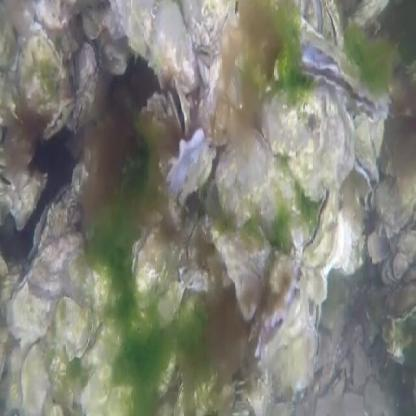3: (6, 229, 87, 344), (295, 54, 390, 113), (29, 183, 82, 259), (133, 226, 175, 307), (302, 184, 339, 265), (109, 0, 160, 56), (180, 0, 233, 52), (255, 308, 289, 364), (355, 115, 378, 190), (296, 35, 341, 72), (186, 215, 216, 267), (167, 79, 192, 140), (44, 96, 75, 140), (75, 37, 97, 91), (287, 263, 307, 319), (323, 0, 343, 47), (311, 328, 321, 366), (311, 304, 322, 329), (365, 187, 375, 213)
Oyster-Closed: (260, 83, 355, 202), (217, 127, 299, 237), (206, 219, 275, 317), (149, 0, 204, 95), (169, 128, 212, 203), (175, 383, 202, 416)
Oyster-Open: (17, 23, 68, 121), (55, 297, 93, 359), (352, 340, 373, 386), (305, 0, 325, 32), (368, 234, 390, 261), (394, 253, 409, 281)
